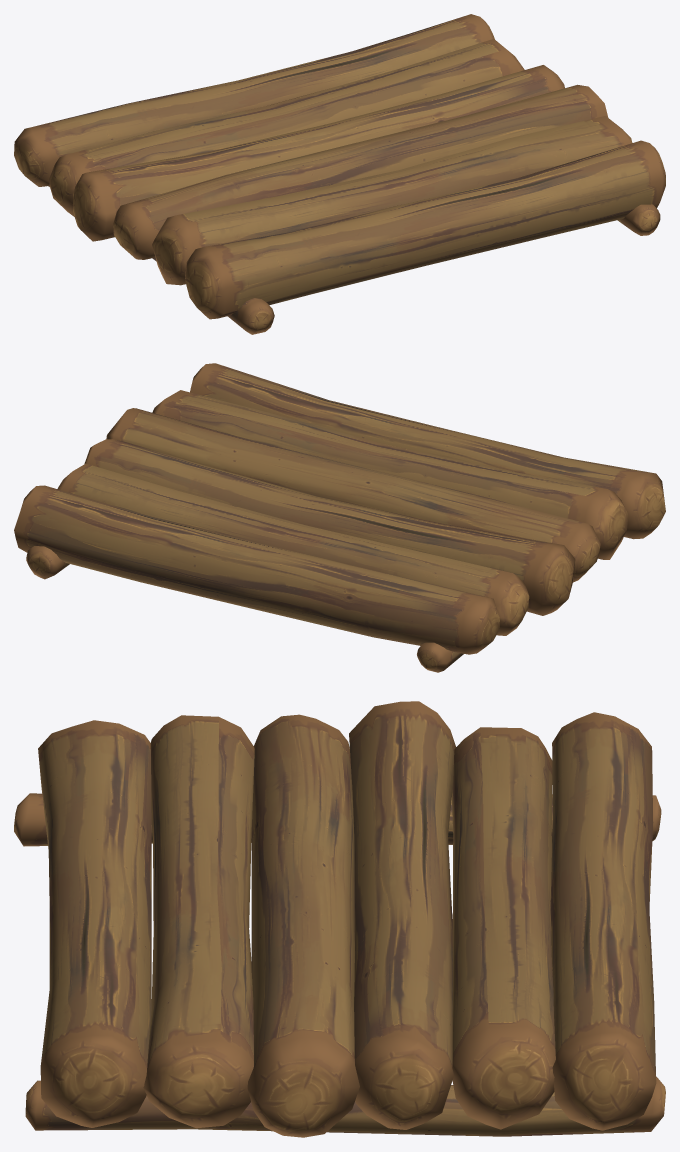
Rendered from SM_PROP_raft_town.fbx.
3 views of the same model, one above another, from view 1: azimuth 30°, elevation 25°; view 2: azimuth 150°, elevation 25°; view 3: azimuth 270°, elevation 25° (orthographic). The views are drawn at different scales.
Visible parts, largest first — view 1: SM_PROP_raft_town_LOD0; view 2: SM_PROP_raft_town_LOD0; view 3: SM_PROP_raft_town_LOD0.
Part boxes in pixels (box(x1,y1,x2,y2)): SM_PROP_raft_town_LOD0: box(14, 14, 665, 334); SM_PROP_raft_town_LOD0: box(14, 363, 665, 672); SM_PROP_raft_town_LOD0: box(14, 701, 665, 1137).
Size of what is drawn, in the model's own units: 435 by 66.72 by 336.
